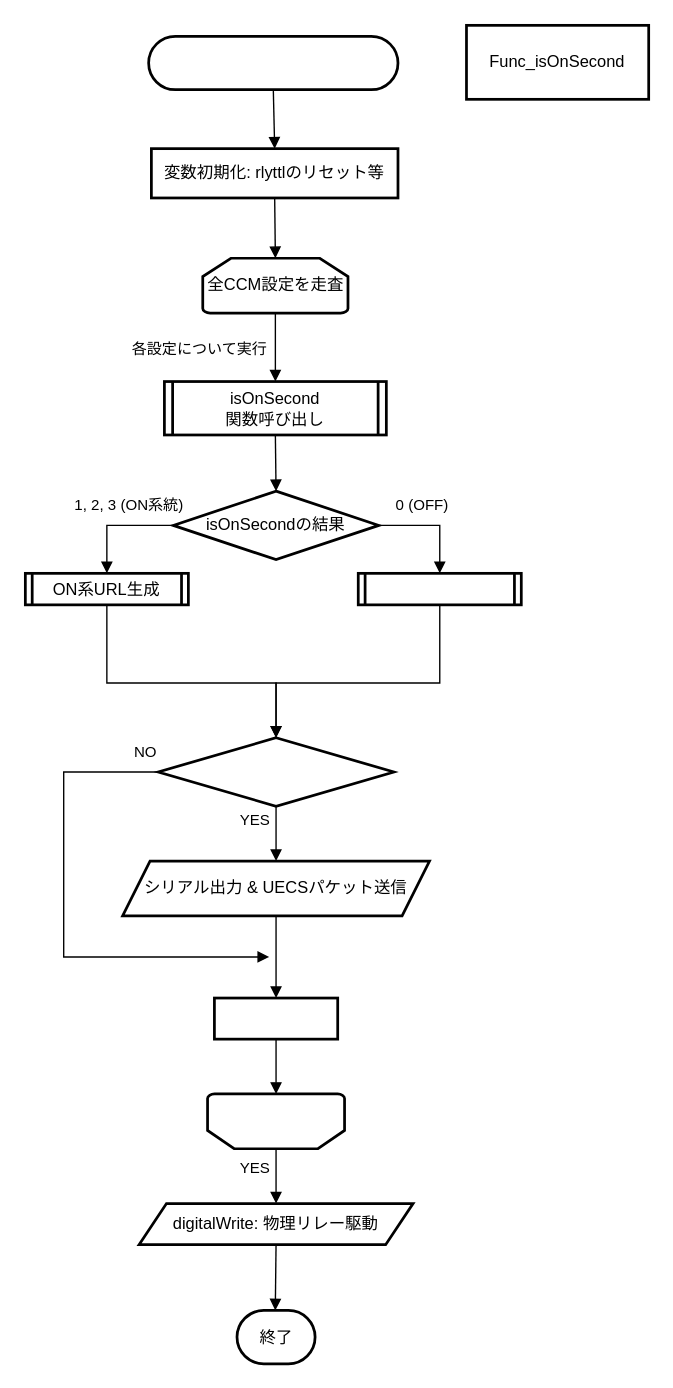
This 673x1388 diagram has some shape labels left out. Here are the shapes that lost their labels. From the top down, the centre of each, then its label:
At pixel 273 62: "開始: opeRUN / 1秒毎".
At pixel 439 588: "OFF系URL生成".
At pixel 275 771: "状態に変化あり?".
At pixel 275 1018: "次の設定へ".
At pixel 275 1120: "全CCM終了?".
